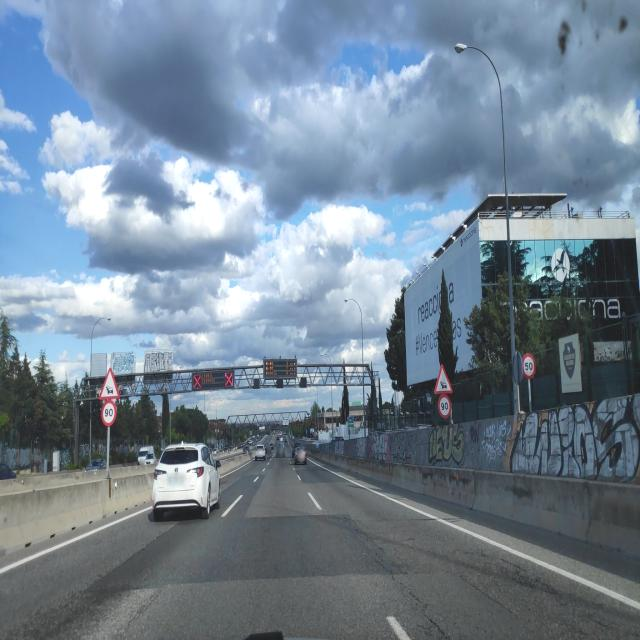car: (151, 440, 222, 520), (136, 446, 158, 468), (84, 457, 108, 472), (0, 461, 17, 480), (294, 446, 308, 466), (254, 443, 266, 461), (275, 444, 286, 458)
